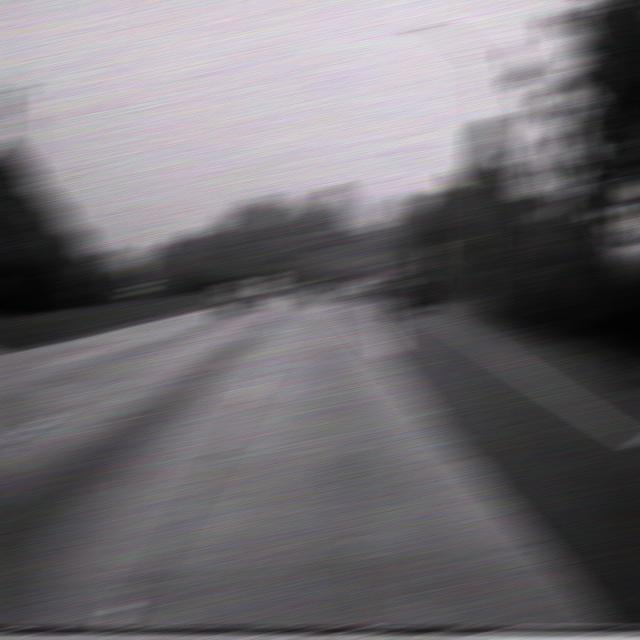speedLimit45: (423, 244, 445, 266)
